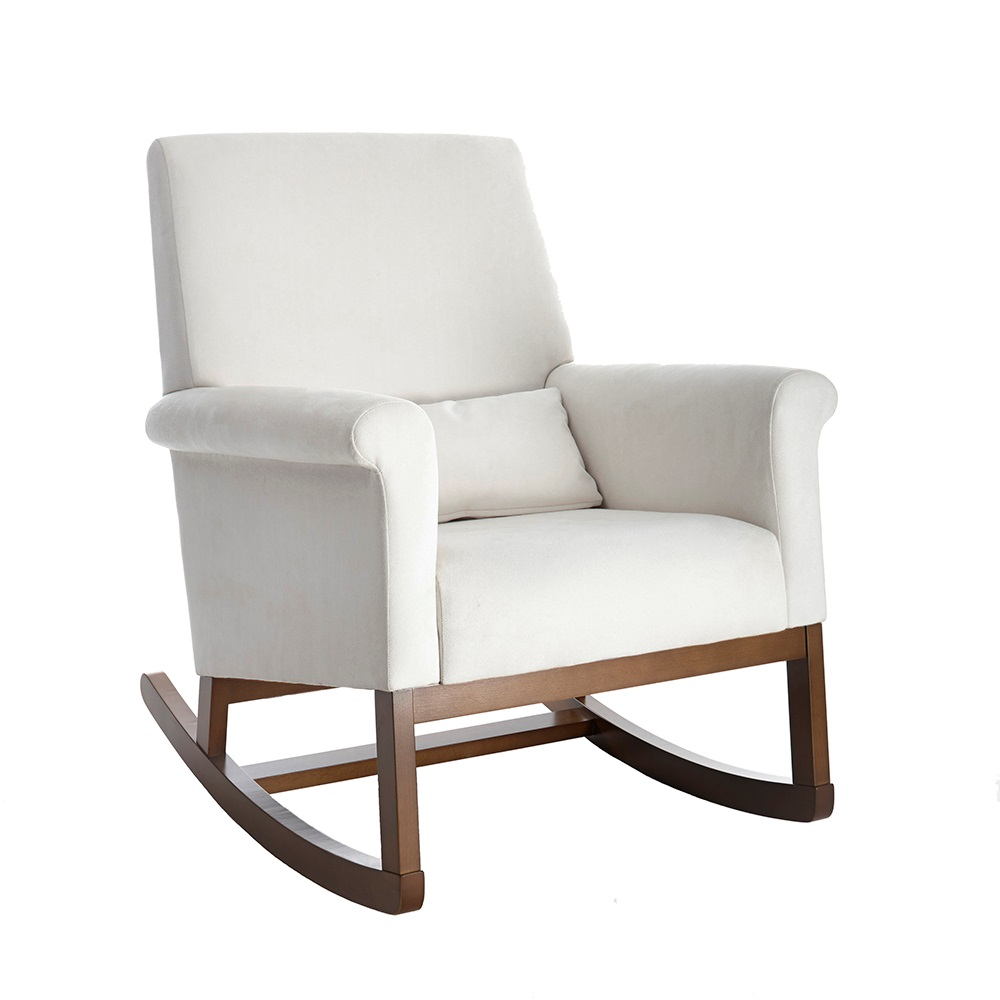chairs: (98, 128, 844, 921)
